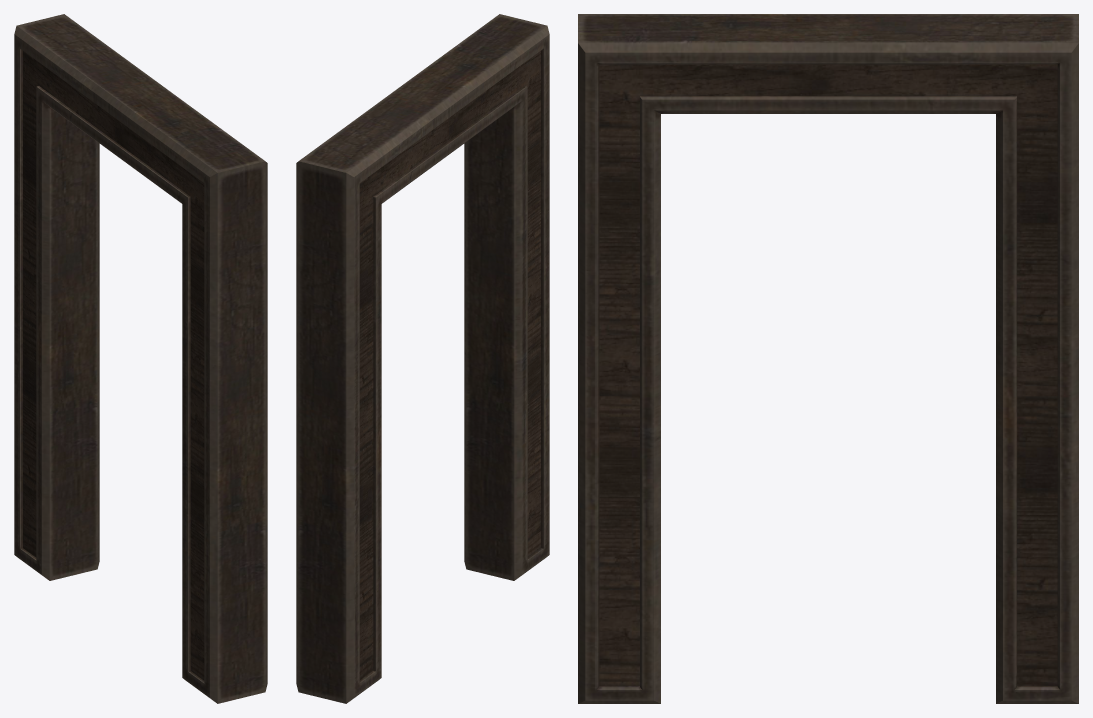
File: 1998Frame.fbx
3 renders of one model, left to right at view 1: azimuth 30°, elevation 25°; view 2: azimuth 150°, elevation 25°; view 3: azimuth 270°, elevation 25°, orthographic. The views are drawn at different scales.
Parts seen in each view (by area): view 1: Plane; view 2: Plane; view 3: Plane.
Boxes of the visible parts, box(x1,y1,x2,y2) form: Plane: box(14, 14, 267, 703); Plane: box(296, 14, 549, 703); Plane: box(578, 14, 1078, 703).
Size of the model in its own units: 27.15 by 239 by 164.
